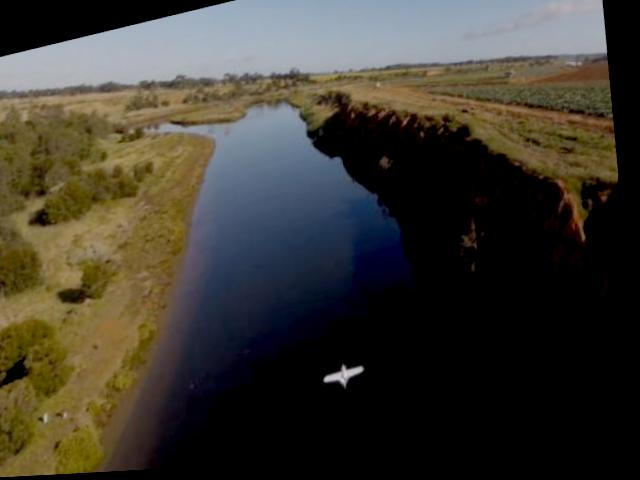uav: (329, 360, 378, 400)
